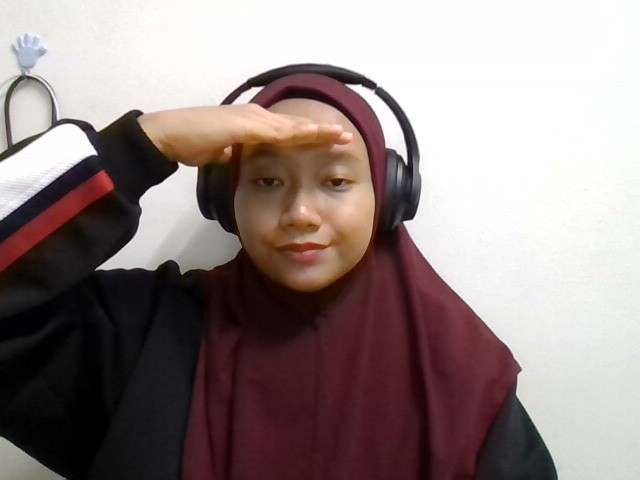Johor: (177, 100, 369, 171)
